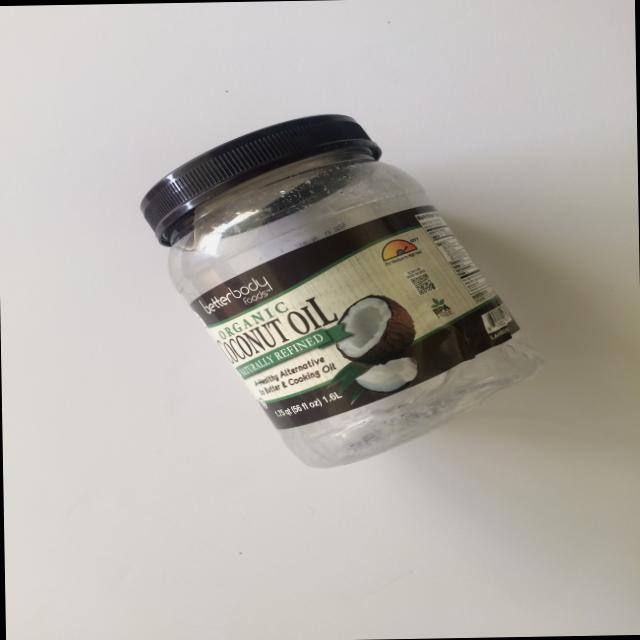Plastic: (110, 99, 564, 489)
